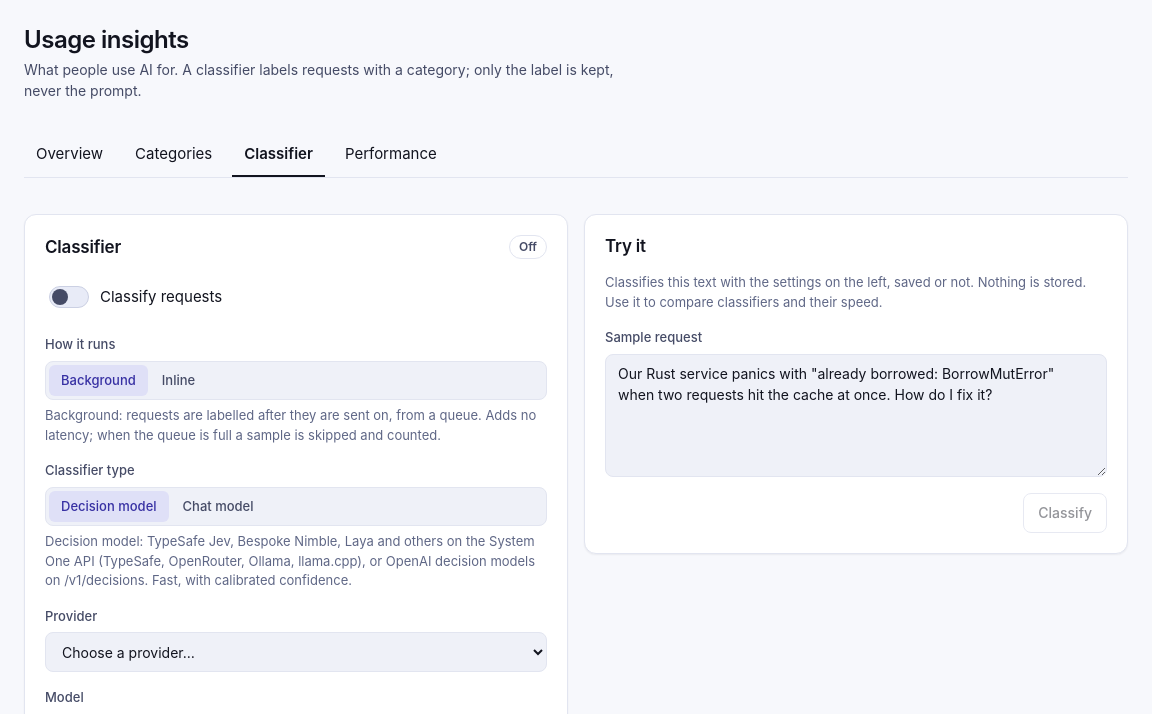
Test: Usage insights › puts a server field error on its field
Click the checkbox labelled "Classify requests".
click(69, 297)  # box [49,286,89,308]
(page scrolled)
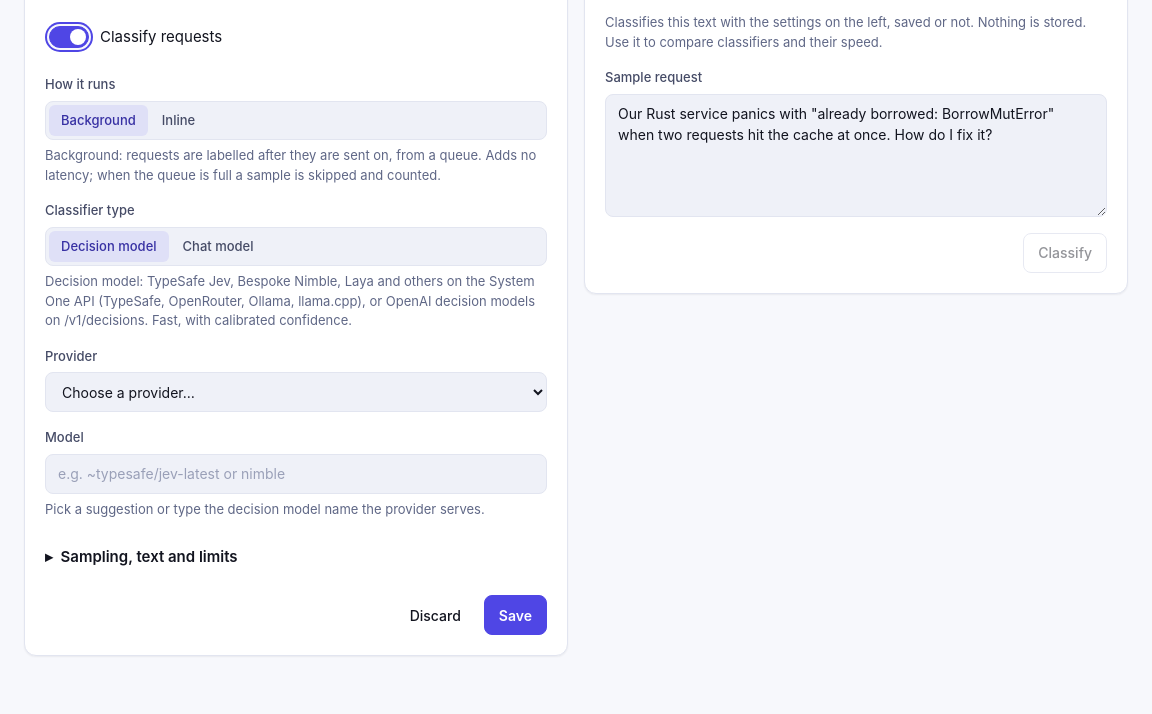
Click the button "Save".
click(515, 615)  # box [484,595,547,635]
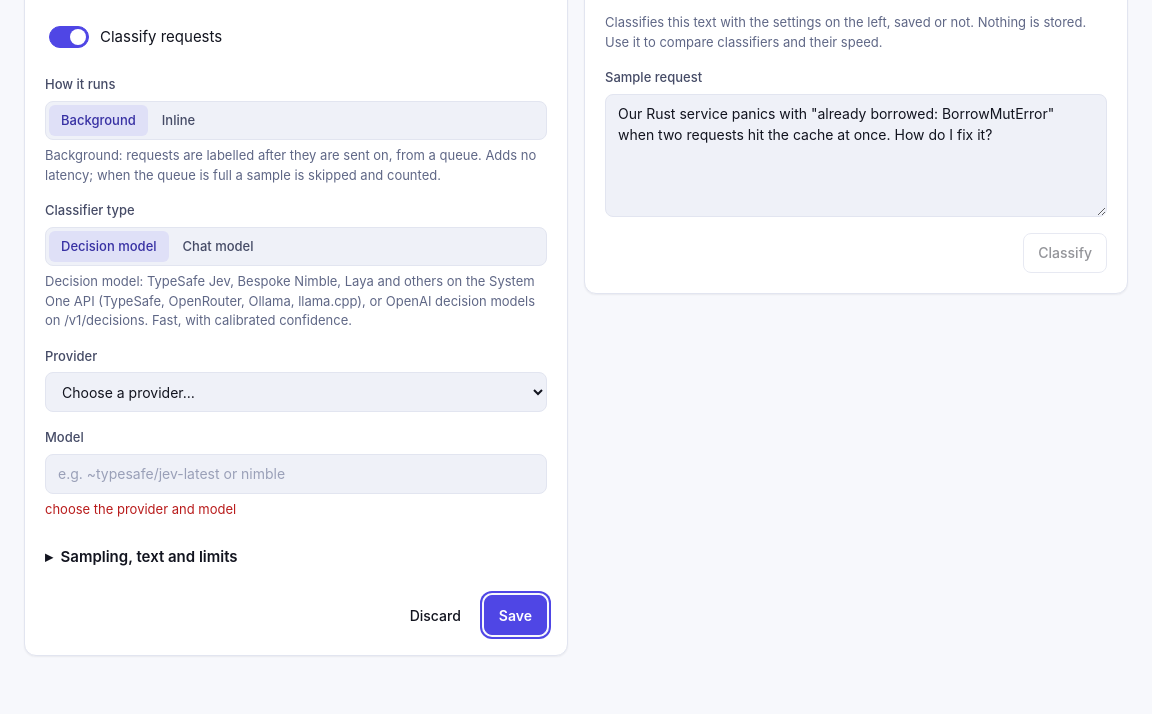
Check: the field labelled "Model" is shown, box [45,454,547,494]
Check: the text "choose the provider and model" is shown, box [45,501,236,517]
